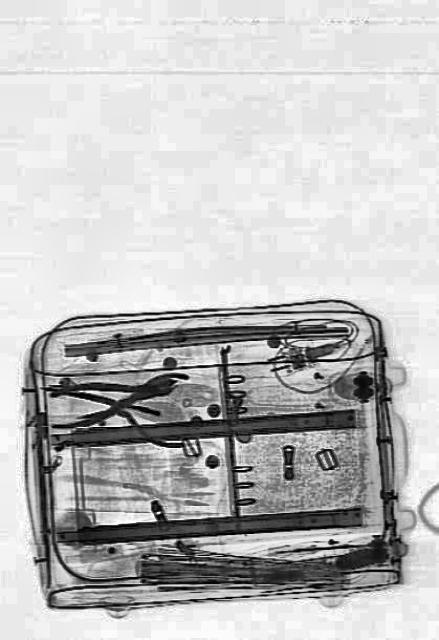Pliers: (73, 364, 188, 448), (49, 364, 178, 434)
